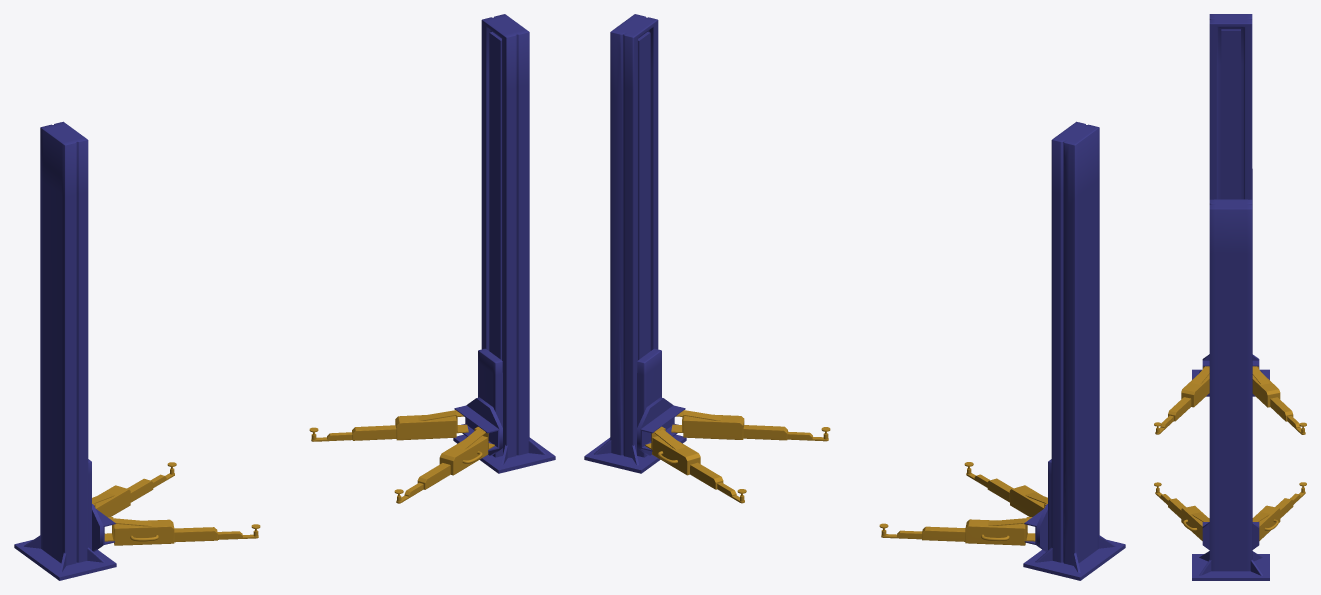
File: elevador_parado.glb
The picture shows the model from 3 angles, left to right: view 1: azimuth 30°, elevation 25°; view 2: azimuth 150°, elevation 25°; view 3: azimuth 270°, elevation 25°; orthographic projection. The views are drawn at different scales.
Parts seen in each view (by area): view 1: Car_Lift_1_0, Car_Lift001_1_0, Lift_Hand013_2_0, Lift_Hand001_2_0; view 2: Car_Lift_1_0, Car_Lift001_1_0, Lift_Hand013_2_0, Lift_Hand001_2_0; view 3: Car_Lift001_1_0, Car_Lift_1_0, Lift_Hand001_2_0, Lift_Hand013_2_0.
Part boxes in pixels (x1,y1,x2,y2): Car_Lift_1_0: (14, 121, 116, 580); Car_Lift001_1_0: (453, 14, 555, 473); Lift_Hand013_2_0: (309, 410, 494, 503); Lift_Hand001_2_0: (92, 462, 260, 545); Car_Lift_1_0: (1023, 121, 1125, 580); Car_Lift001_1_0: (584, 14, 686, 473); Lift_Hand013_2_0: (645, 410, 830, 503); Lift_Hand001_2_0: (879, 462, 1047, 545); Car_Lift001_1_0: (1192, 199, 1269, 580); Car_Lift_1_0: (1192, 14, 1269, 396); Lift_Hand001_2_0: (1154, 366, 1306, 434); Lift_Hand013_2_0: (1154, 482, 1306, 540).
Bounding box in the file's own units: 3.02 × 2.47 × 0.9367.
